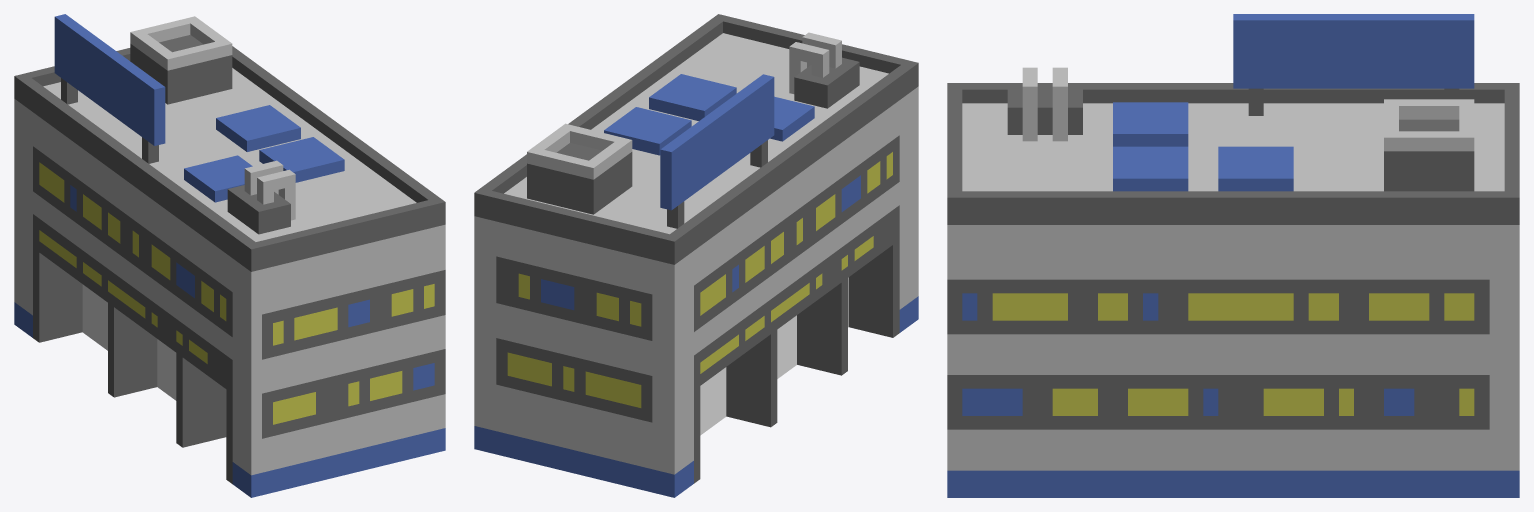
File: edificio.obj
3 renders of one model, left to right at view 1: azimuth 30°, elevation 25°; view 2: azimuth 150°, elevation 25°; view 3: azimuth 270°, elevation 25°, orthographic. The views are drawn at different scales.
Visible parts, largest first — view 1: Object_2; view 2: Object_2; view 3: Object_2.
Boxes of the visible parts, x1,y1,x2,y2 form: Object_2: [14, 14, 445, 497]; Object_2: [474, 14, 918, 497]; Object_2: [947, 14, 1519, 497].
Bounding box in the file's own units: 18 × 28 × 38.
Materials: 1 (1 with a texture image).
